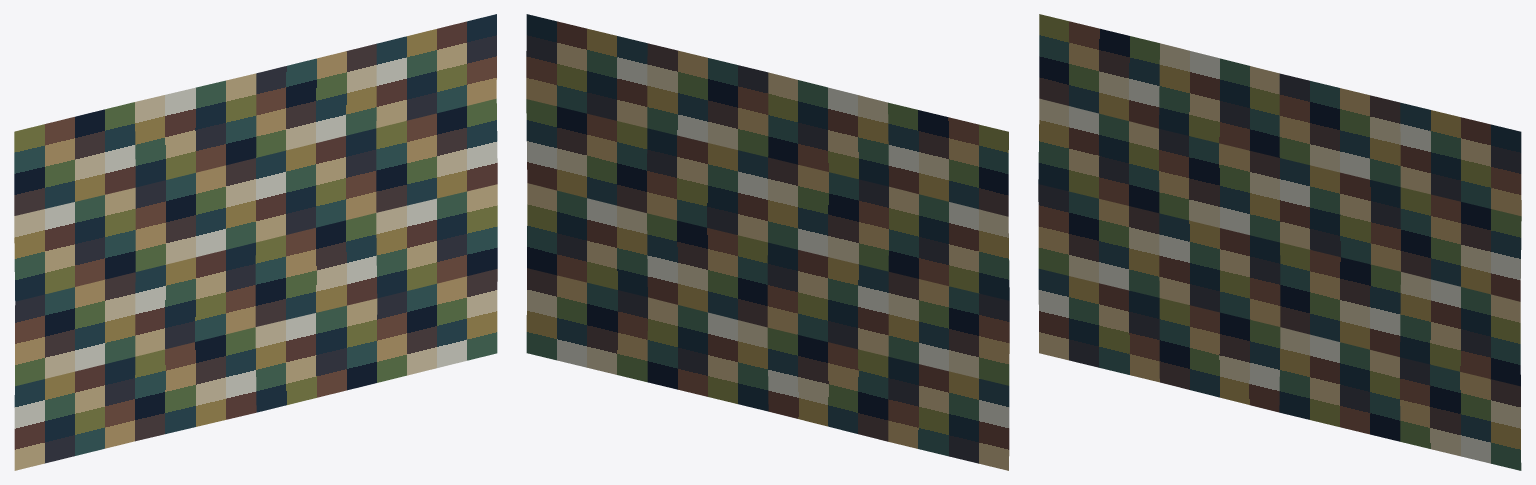
The picture shows the model from 3 angles, left to right: view 1: azimuth 30°, elevation 25°; view 2: azimuth 150°, elevation 25°; view 3: azimuth 330°, elevation 25°; orthographic projection.
Size of the model in its own units: 5775 by 3880 by 24.49.
1 material, 1 textured.
